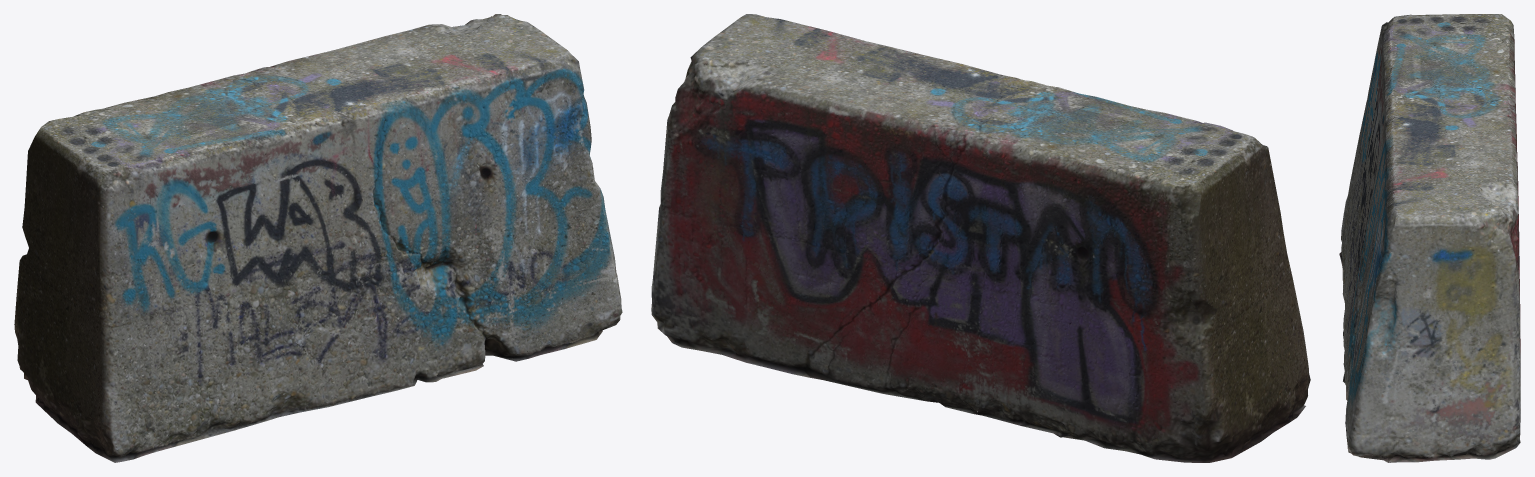
The model's file is concrete_barrier_02.glb.
The picture shows the model from 3 angles, left to right: view 1: azimuth 30°, elevation 25°; view 2: azimuth 150°, elevation 25°; view 3: azimuth 270°, elevation 25°; orthographic projection. The views are drawn at different scales.
Parts seen in each view (by area): view 1: Barricade_02; view 2: Barricade_02; view 3: Barricade_02.
Boxes of the visible parts, x1,y1,x2,y2 form: Barricade_02: (14, 14, 622, 462); Barricade_02: (651, 14, 1310, 462); Barricade_02: (1339, 14, 1520, 462).
Size of the model in its own units: 2 by 0.98 by 0.6703.
Materials: 1 (1 with a texture image).
